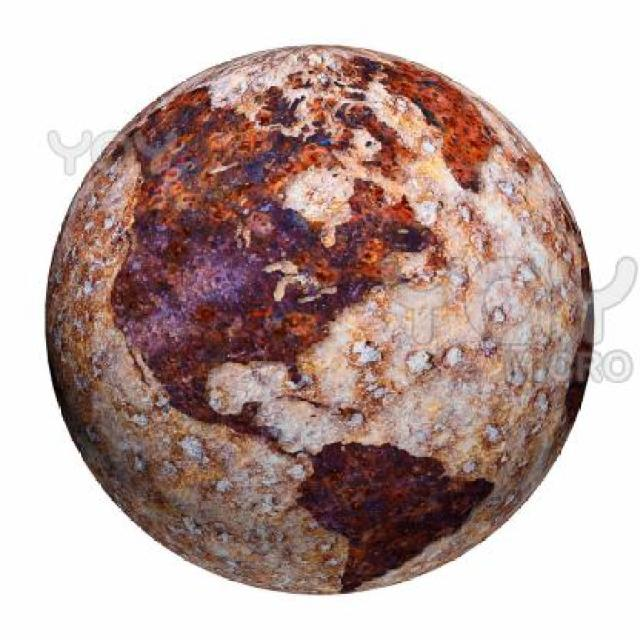corrosion: (41, 40, 599, 603)
